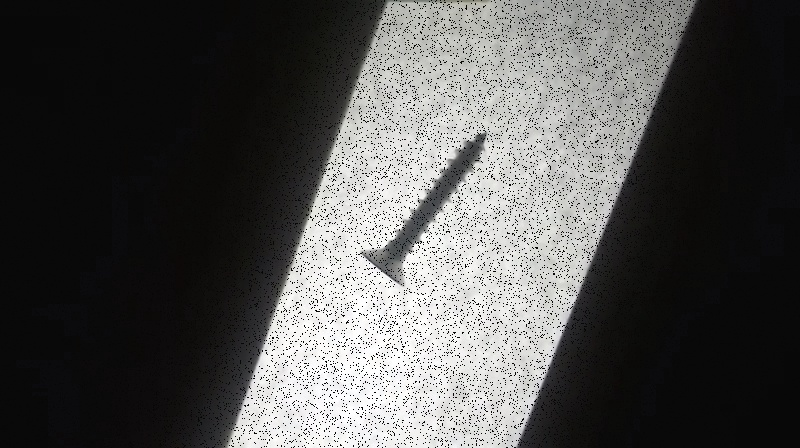S001: (355, 125, 491, 289)
